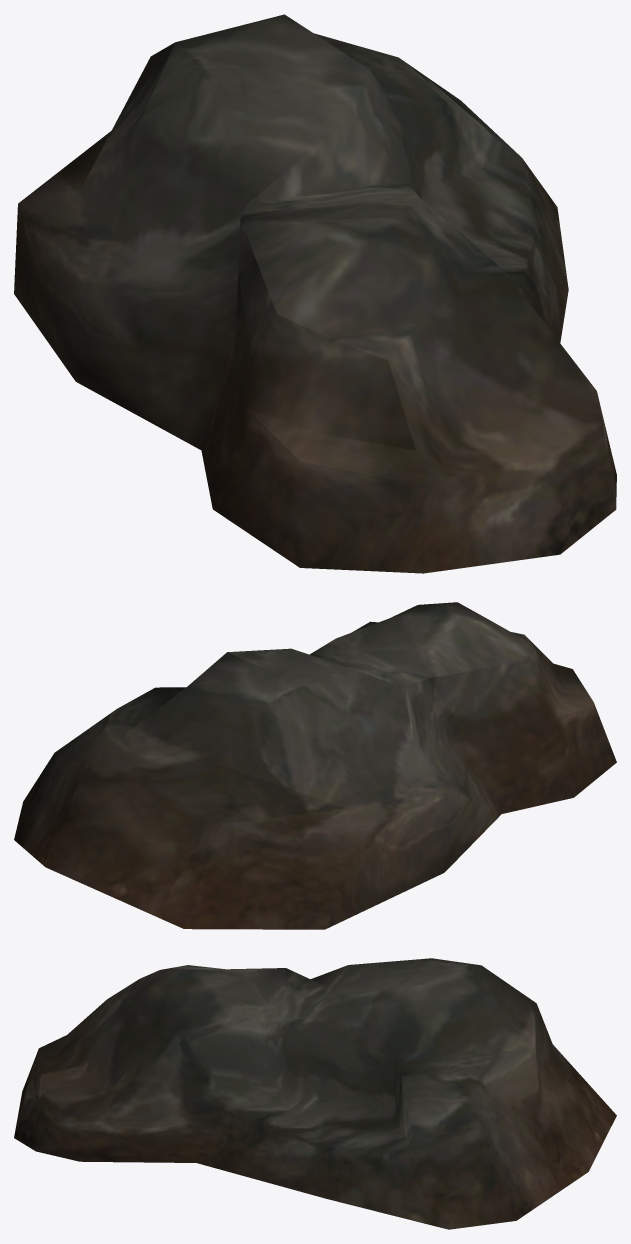
The model's file is fxmg_shitou4.FBX.
3 views of the same model, one above another, from view 1: azimuth 30°, elevation 25°; view 2: azimuth 150°, elevation 25°; view 3: azimuth 270°, elevation 25° (orthographic). The views are drawn at different scales.
Visible parts, largest first — view 1: KLMSM_shitou4; view 2: KLMSM_shitou4; view 3: KLMSM_shitou4.
Part boxes in pixels (<box>): KLMSM_shitou4: <box>14,14,616,573</box>; KLMSM_shitou4: <box>14,602,616,929</box>; KLMSM_shitou4: <box>14,958,616,1229</box>.
Size of the model in its own units: 10.42 by 4.65 by 15.13.
